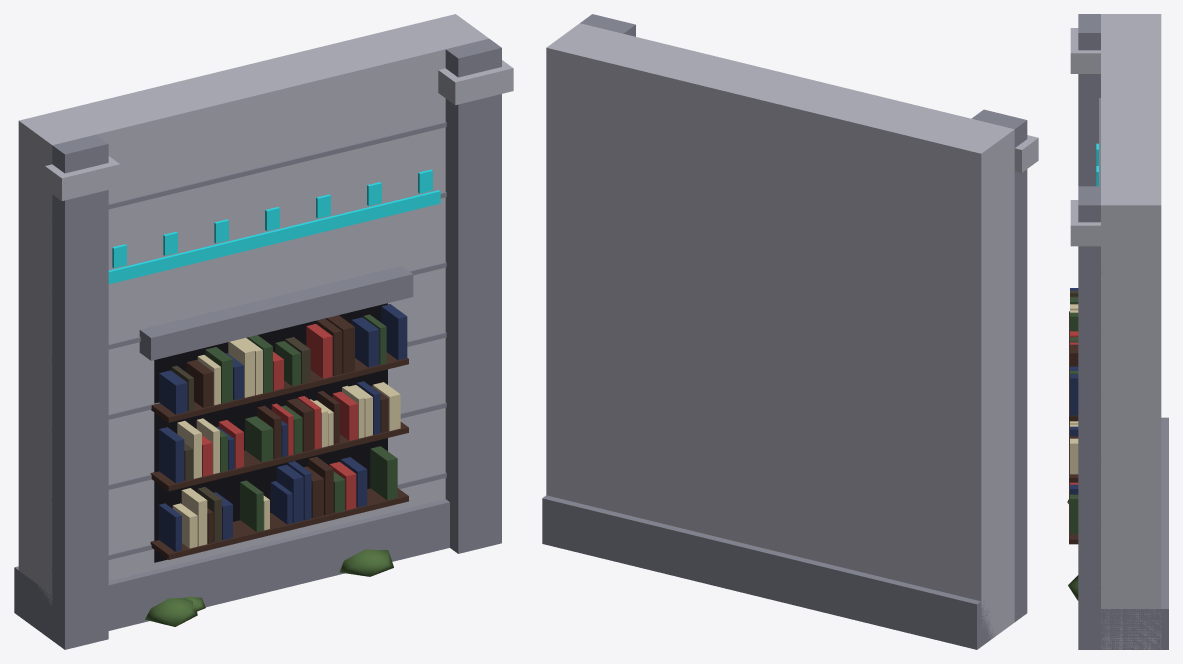
File: archive_wall.glb
3 renders of one model, left to right at view 1: azimuth 30°, elevation 25°; view 2: azimuth 150°, elevation 25°; view 3: azimuth 270°, elevation 25°, orthographic. The views are drawn at different scales.
Parts seen in each view (by area): view 1: plinth; view 2: plinth; view 3: plinth.
Part boxes in pixels (x1=…): plinth: x1=14, y1=14, x2=513, y2=649; plinth: x1=542, y1=14, x2=1038, y2=649; plinth: x1=1067, y1=14, x2=1168, y2=649.
Size of the model in its own units: 6.2 by 6.56 by 1.35.
